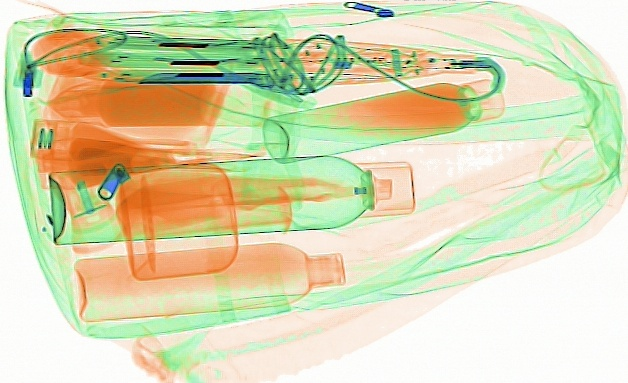pressure: (46, 151, 416, 245), (261, 73, 506, 165)
